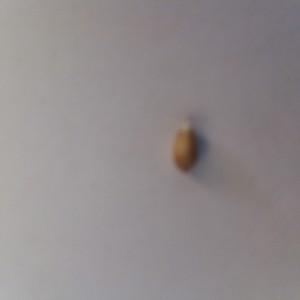trigo: (166, 118, 200, 175)
